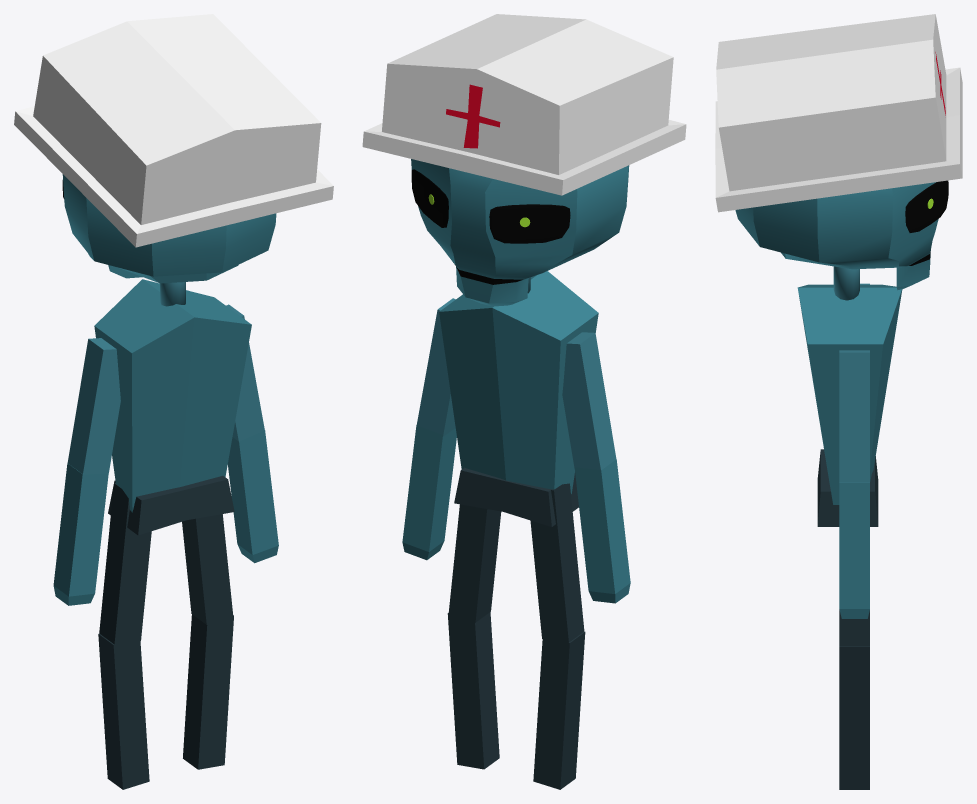
Rendered from Врач Зомби.fbx.
3 views of the same model, side by side, from view 1: azimuth 30°, elevation 25°; view 2: azimuth 150°, elevation 25°; view 3: azimuth 270°, elevation 25° (orthographic).
Parts seen in each view (by area): view 1: Cube.036, Cube.011, Cube.006, Cube.009, Cube.007, Plane.002, Cube.010, Cube.008; view 2: Cube.036, Cube.011, Plane.002, Cube.006, Cube.009, Cube.007, Cube.010, Cylinder.001, Cube.008; view 3: Cube.036, Plane.002, Cube.011, Cube.006, Cube.009, Cube.010, Cube.008, Cylinder.001, Cube.007.
Part boxes in pixels (box(x1,y1,x2,y2)): Cube.036: box(14, 14, 333, 247); Cube.011: box(94, 279, 251, 512); Cube.006: box(98, 614, 233, 789); Cube.009: box(53, 430, 278, 605); Cube.007: box(99, 483, 233, 644); Plane.002: box(62, 174, 276, 283); Cube.010: box(67, 304, 264, 474); Cube.008: box(108, 475, 234, 535); Cube.036: box(362, 14, 686, 195); Cube.011: box(439, 271, 598, 493); Plane.002: box(411, 159, 629, 306); Cube.006: box(447, 612, 585, 789); Cube.009: box(402, 425, 630, 603); Cube.007: box(448, 467, 584, 642); Cube.010: box(416, 298, 616, 470); Cylinder.001: box(411, 169, 570, 243); Cube.008: box(454, 468, 578, 526); Cube.036: box(715, 14, 962, 212); Plane.002: box(735, 182, 938, 290); Cube.011: box(797, 266, 902, 504); Cube.006: box(839, 646, 869, 789); Cube.009: box(839, 482, 869, 618); Cube.010: box(839, 283, 869, 482); Cube.008: box(817, 449, 878, 526); Cylinder.001: box(905, 180, 948, 232); Cube.007: box(839, 609, 869, 645).
Size of the model in its own units: 48.06 by 158 by 48.74.
